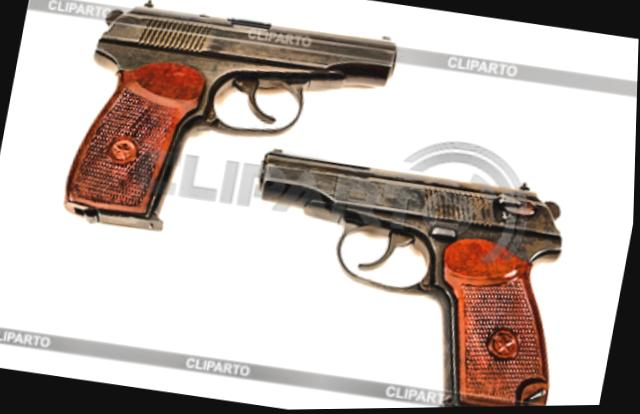pistol: (230, 137, 587, 411), (59, 0, 403, 267)
